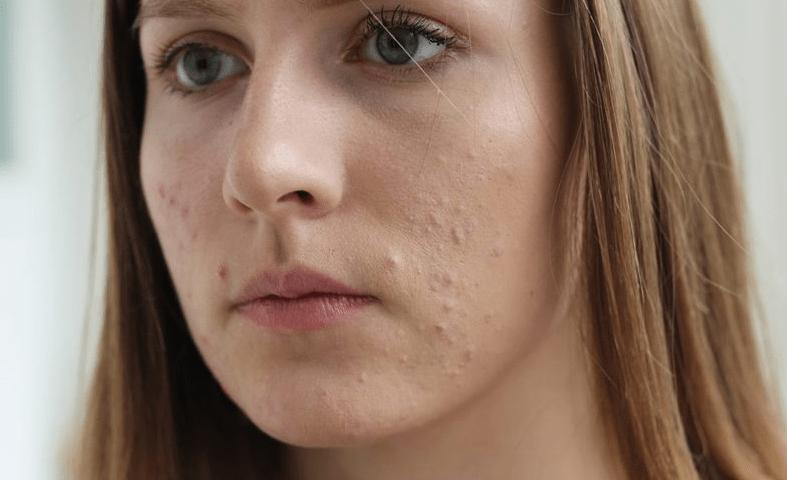Acne: (376, 152, 519, 381), (140, 160, 246, 297)
